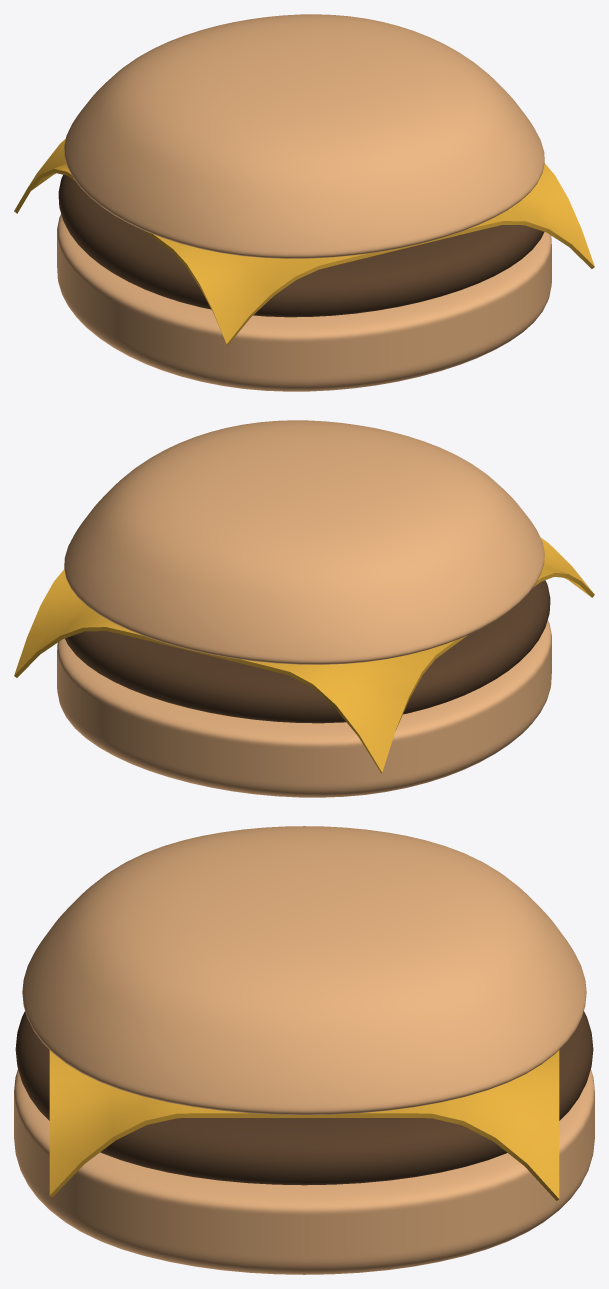
File: hamburger.glb
3 renders of one model, top to bottom at view 1: azimuth 30°, elevation 25°; view 2: azimuth 150°, elevation 25°; view 3: azimuth 270°, elevation 25°, orthographic. The views are drawn at different scales.
Visible parts, largest first — view 1: Cube.002, Cube.001, Cube, Plane; view 2: Cube.002, Cube.001, Cube, Plane; view 3: Cube.002, Cube.001, Cube, Plane.
Part boxes in pixels (x1,y1,x2,y2): Cube.002: (64, 14, 544, 258); Cube.001: (57, 214, 551, 391); Cube: (58, 175, 544, 317); Plane: (14, 138, 594, 345); Cube.002: (64, 420, 544, 664); Cube.001: (57, 620, 551, 797); Cube: (65, 580, 550, 723); Plane: (14, 537, 594, 773); Cube.002: (22, 826, 586, 1115); Cube.001: (14, 1069, 594, 1274); Cube: (15, 1011, 593, 1185); Plane: (49, 1050, 559, 1200).
Bounding box in the file's own units: 9.1 × 5.06 × 9.1.
